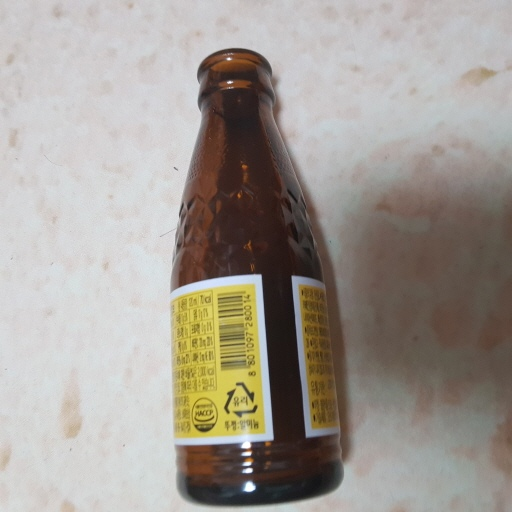Glass_3: (166, 44, 352, 504)
